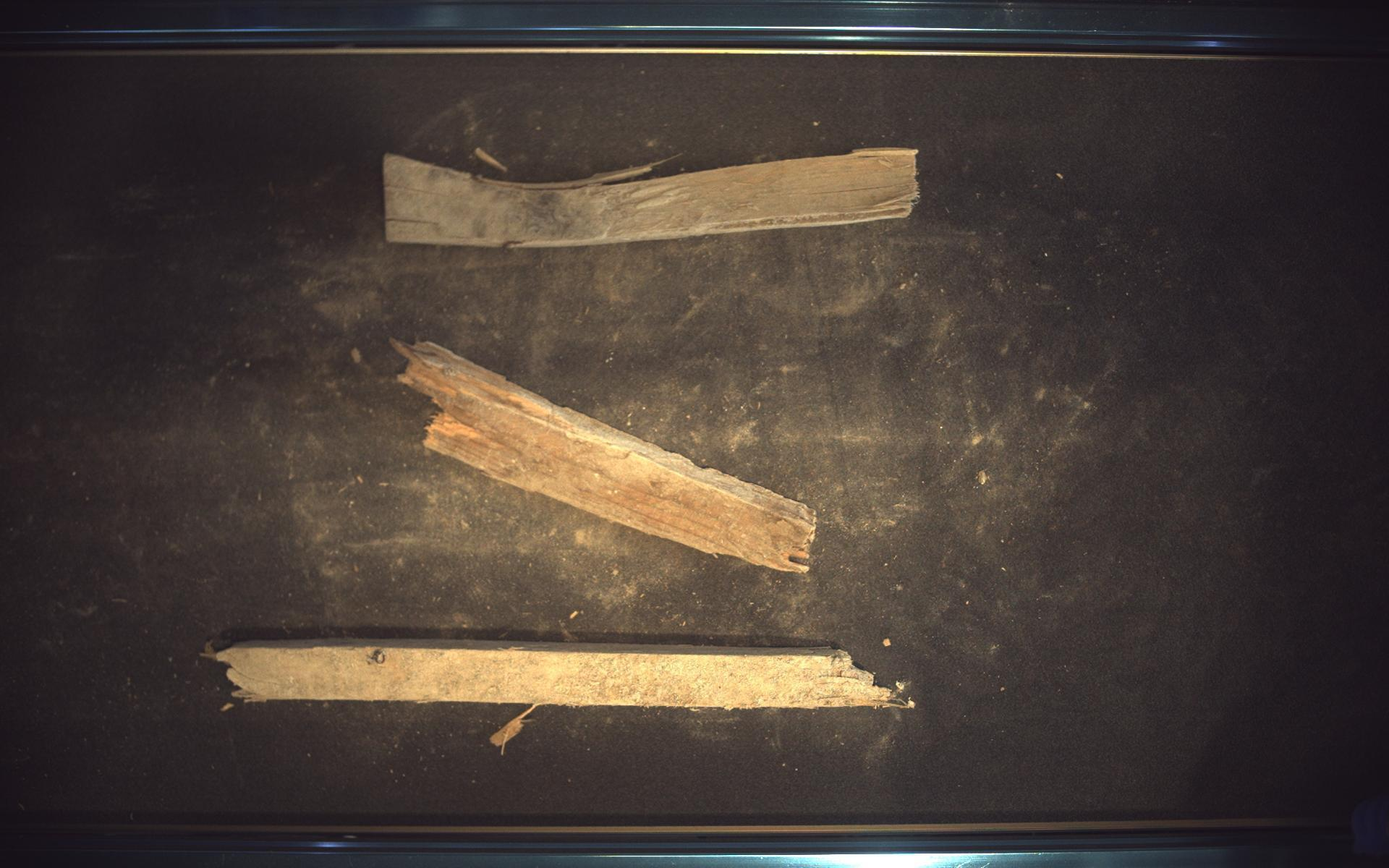wood: (392, 340, 817, 573), (383, 148, 920, 247), (209, 640, 909, 710)
